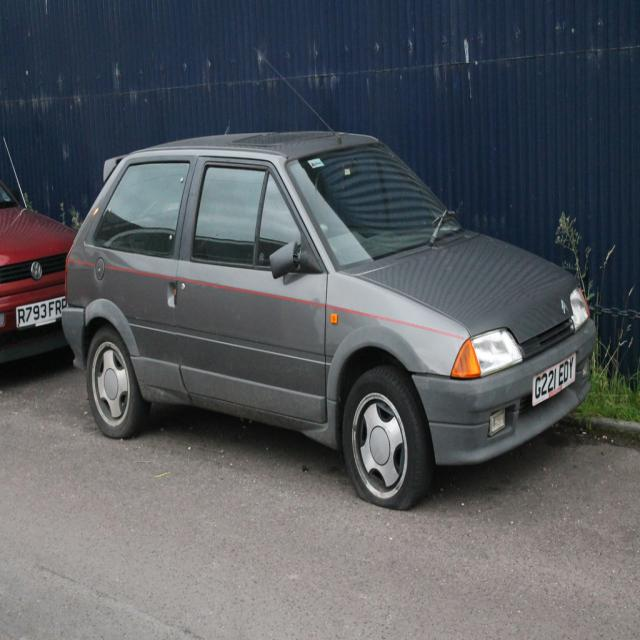car: (60, 122, 604, 509)
